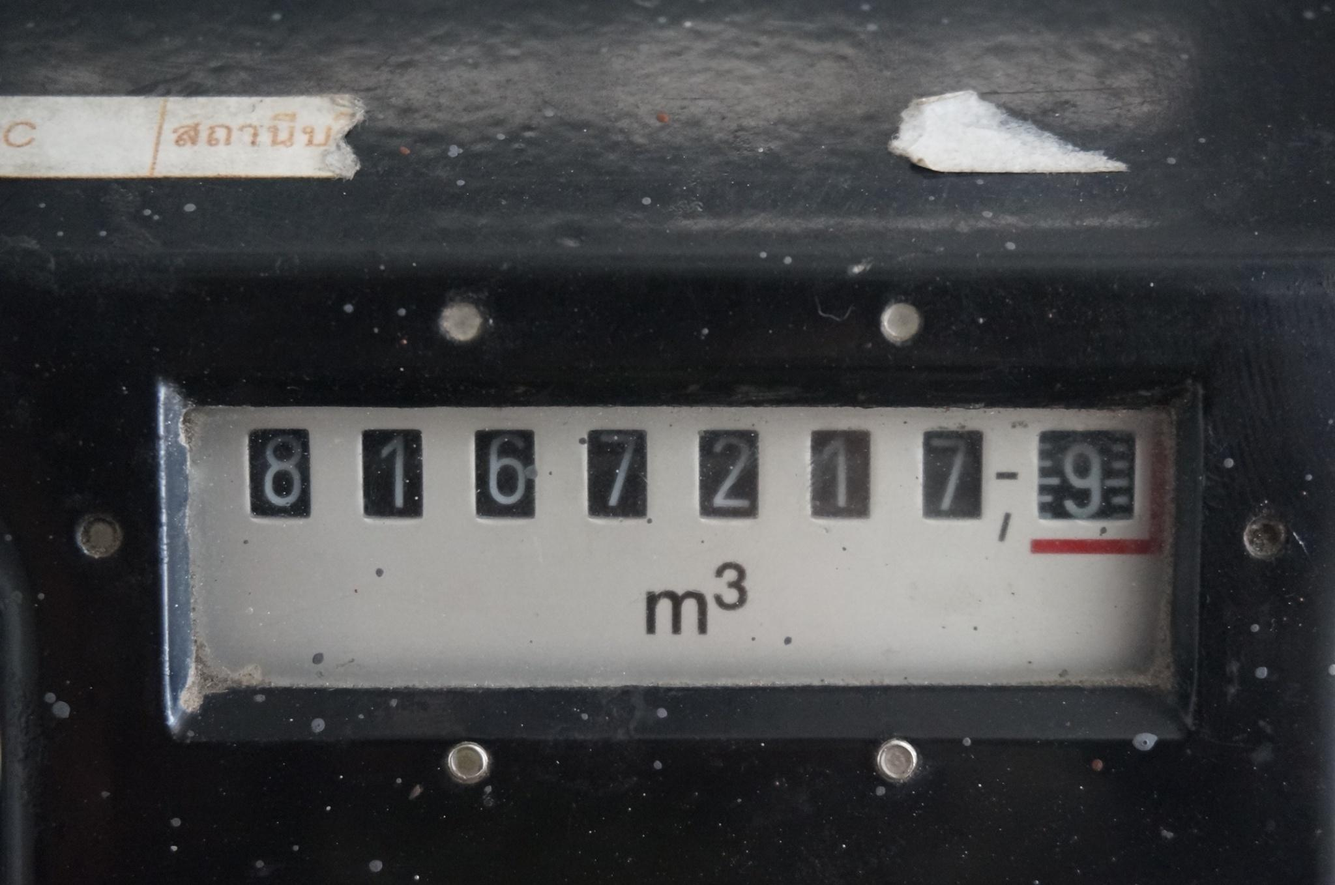analog_dial: (188, 408, 1181, 687)
